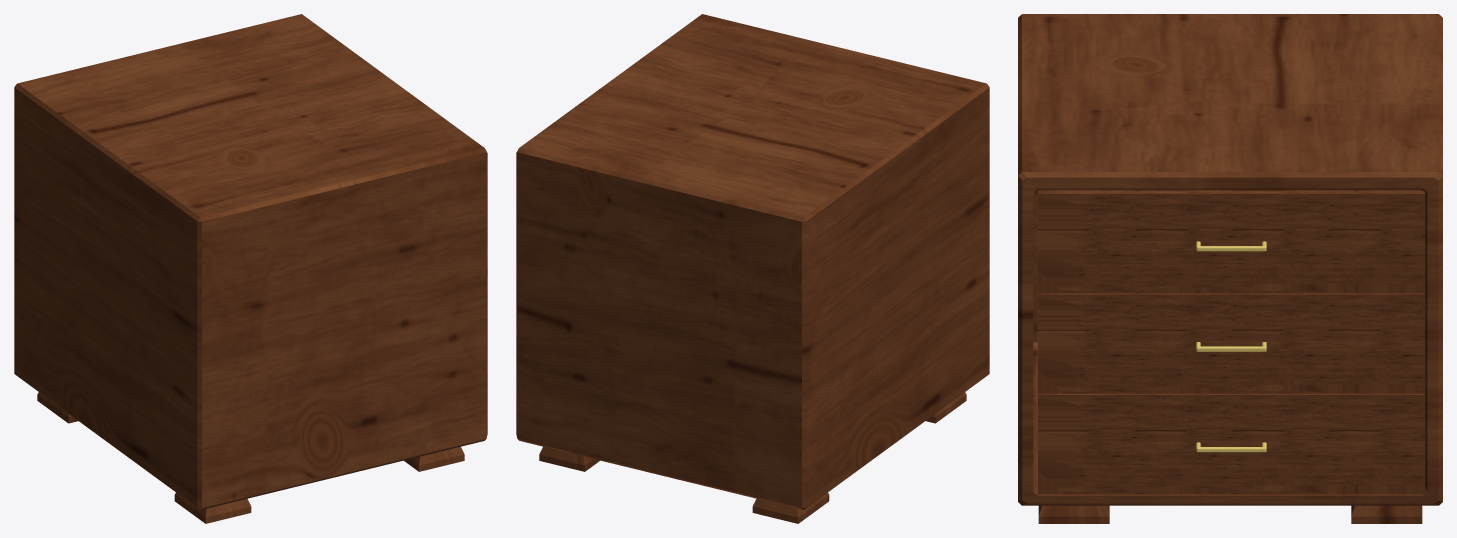
The model's file is Bedside Table.fbx.
3 renders of one model, left to right at view 1: azimuth 30°, elevation 25°; view 2: azimuth 150°, elevation 25°; view 3: azimuth 270°, elevation 25°, orthographic. The views are drawn at different scales.
Visible parts, largest first — view 1: Bedside Table, DeskBase.001; view 2: Bedside Table, DeskBase.001; view 3: Bedside Table, DrawerTop, Drawer Bottom, Drawer Middle, DeskBase.001.
Boxes of the visible parts, x1=… form: Bedside Table: x1=14, y1=14, x2=487, y2=509; DeskBase.001: x1=37, y1=392, x2=464, y2=523; Bedside Table: x1=516, y1=14, x2=989, y2=509; DeskBase.001: x1=539, y1=392, x2=966, y2=523; Bedside Table: x1=1018, y1=14, x2=1442, y2=505; DrawerTop: x1=1038, y1=190, x2=1424, y2=293; Drawer Bottom: x1=1038, y1=393, x2=1424, y2=494; Drawer Middle: x1=1038, y1=293, x2=1424, y2=393; DeskBase.001: x1=1033, y1=347, x2=1422, y2=523.
Size of the model in its own units: 5.63 by 5.55 by 5.95.
Materials: 2 (1 with a texture image).
